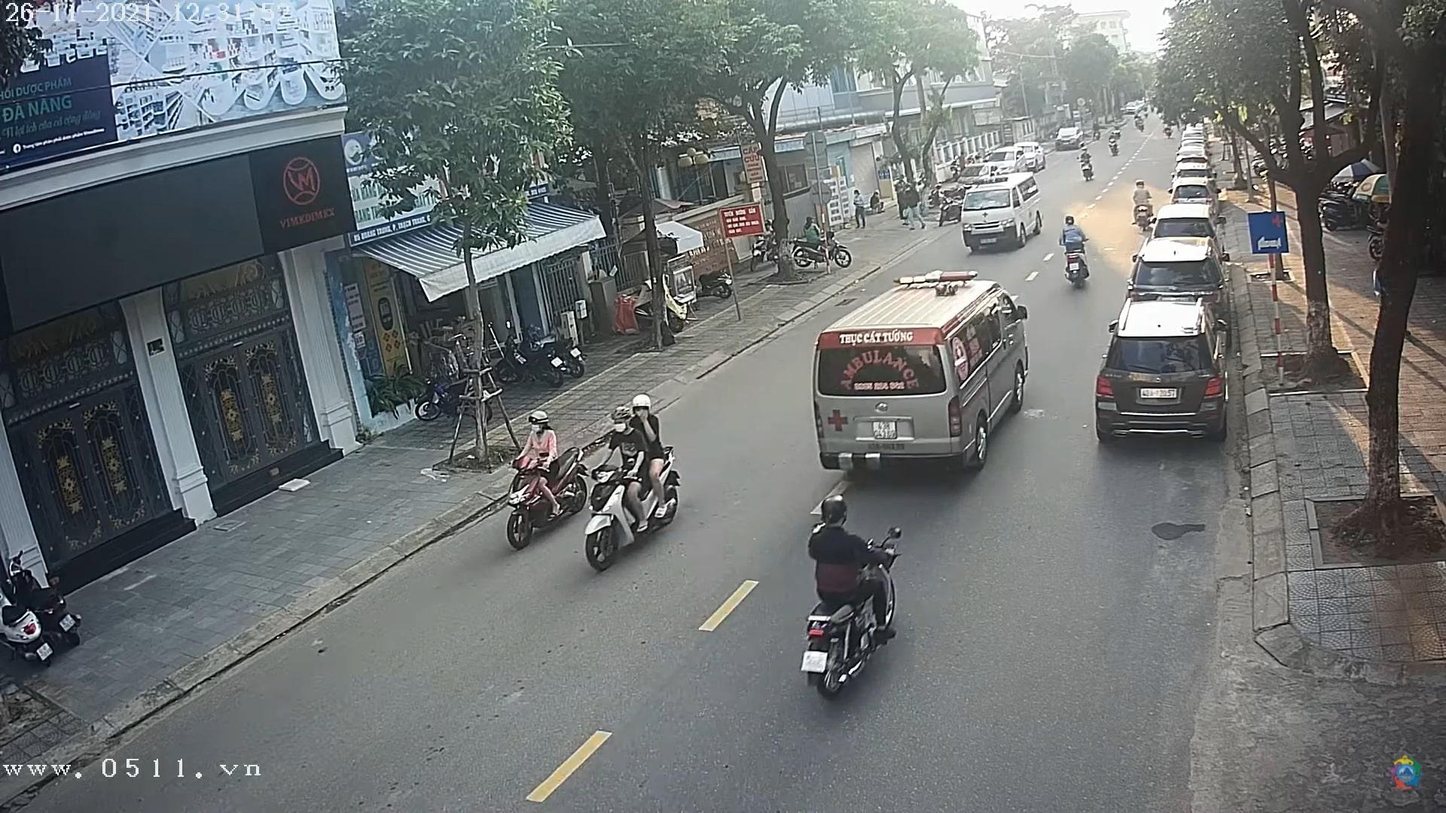car: (960, 178, 1044, 255)
motorbike: (575, 454, 686, 577), (499, 458, 585, 555)
